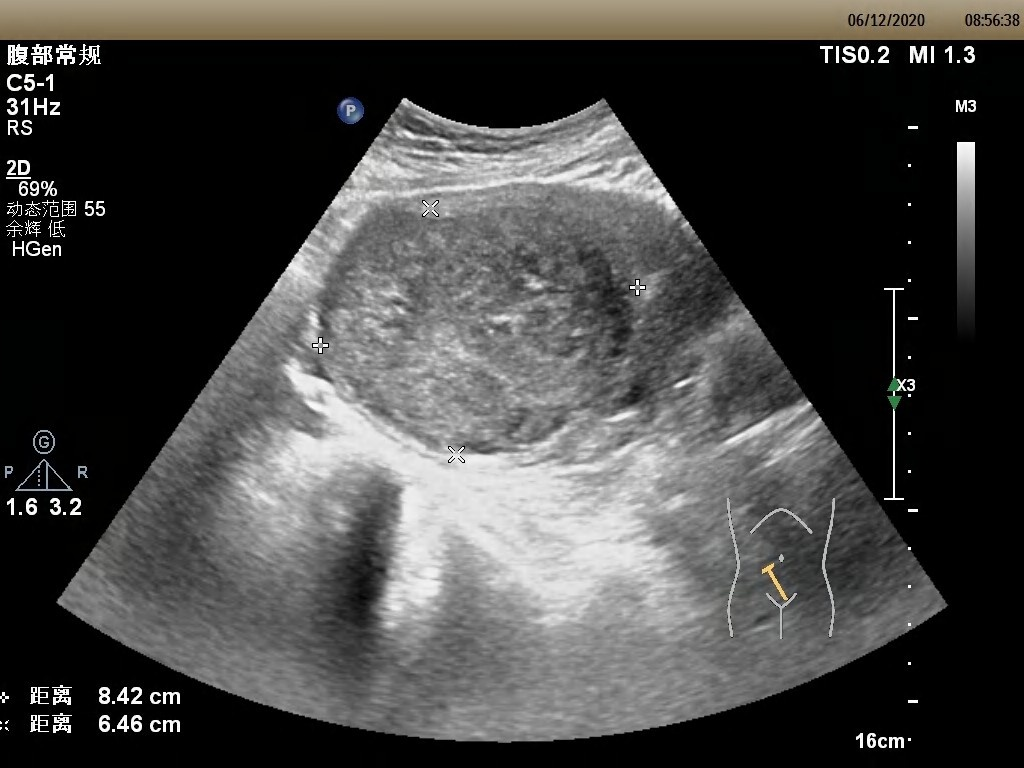肌瘤: (319, 205, 642, 456)
